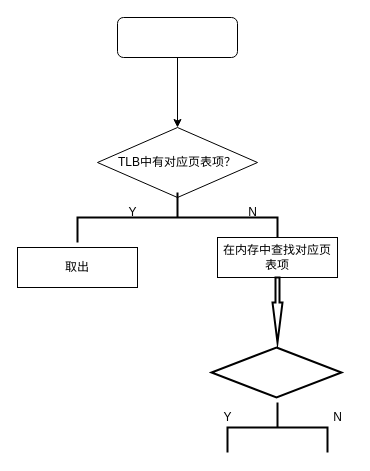
Image size: 370x471. Some labels were removed from this diagram. Each missing label, with the box of its shape:
开始: (116, 16, 238, 58)
找到？: (210, 346, 342, 398)
